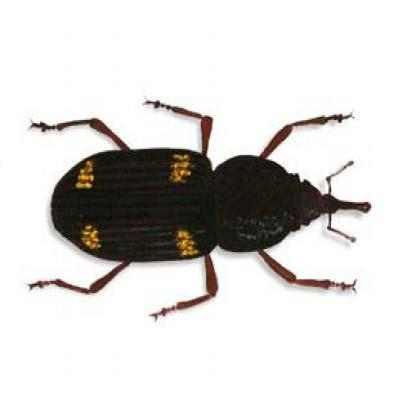rice-bug: (44, 144, 374, 272)
